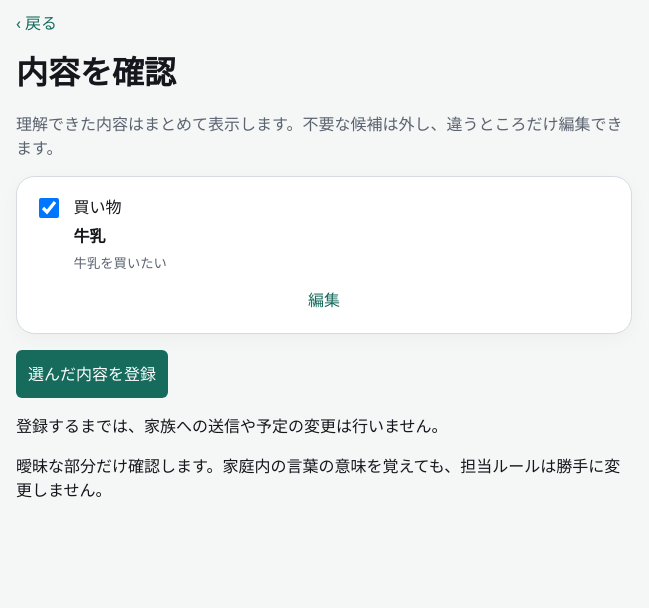
Scenario: simple addition › registers from a single review screen and freezes the confirmed selection
Check: the text "牛乳" is shown once, box [74,225,106,247]
Click the button "選んだ内容を登録" at {"x": 92, "y": 374}, box [16,350,168,398]
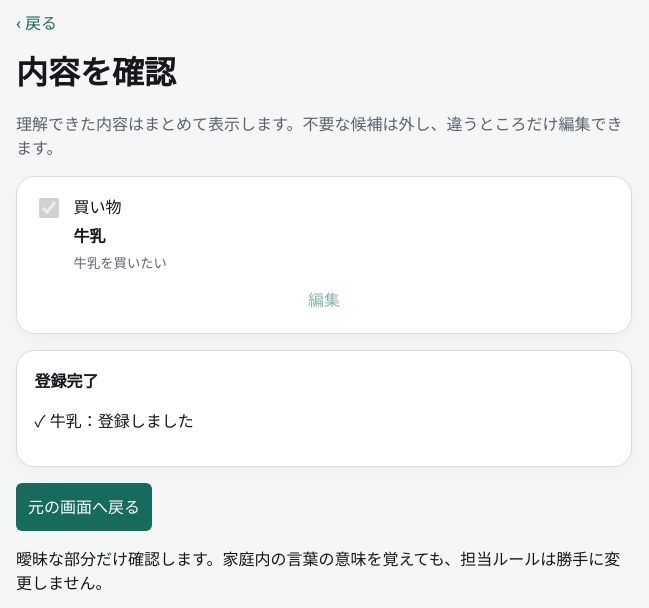
Check: the checkbox is disabled, box [39,198,59,218]
Check: the text "登録完了" is shown, box [35,370,99,392]
